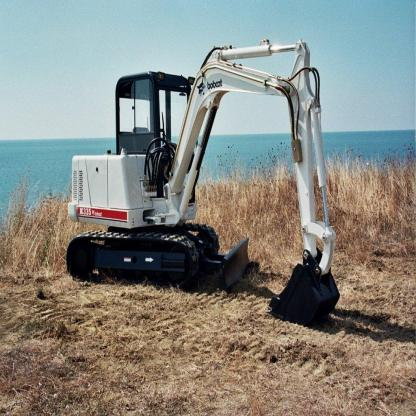excavator: (58, 29, 345, 352)
